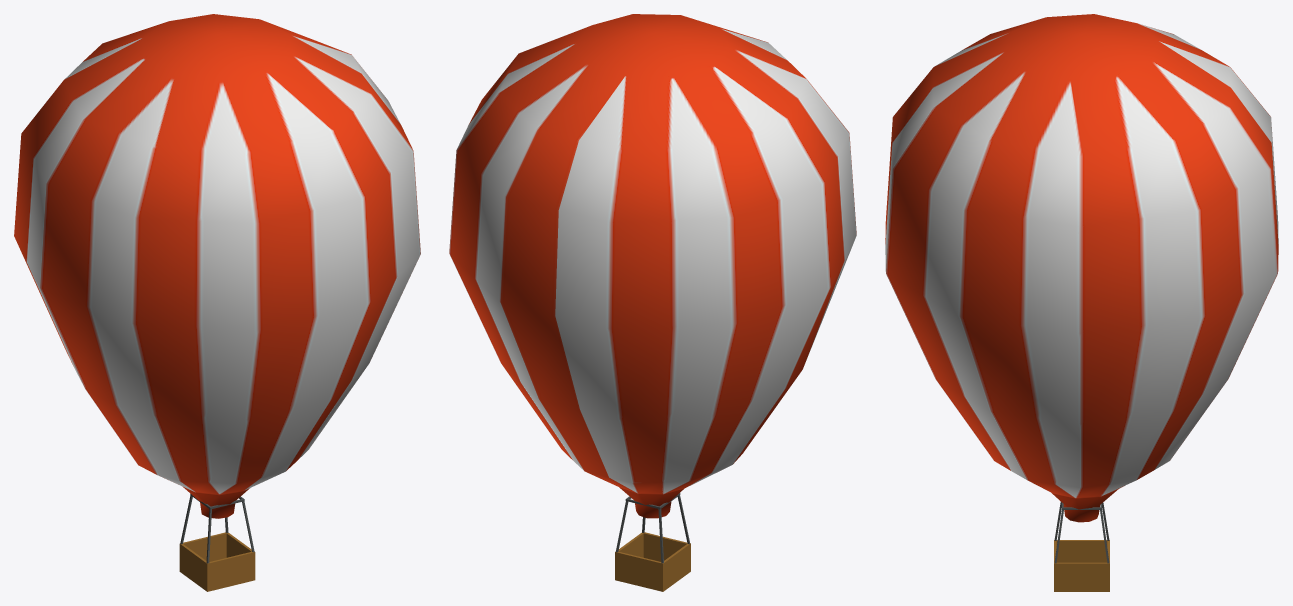
Rendered from HotAirBalloon.fbx.
3 views of the same model, side by side, from view 1: azimuth 30°, elevation 25°; view 2: azimuth 150°, elevation 25°; view 3: azimuth 270°, elevation 25° (orthographic).
Parts seen in each view (by area): view 1: HotAirBalloon; view 2: HotAirBalloon; view 3: HotAirBalloon.
Boxes of the visible parts, x1=… form: HotAirBalloon: x1=14, y1=14, x2=420, y2=591; HotAirBalloon: x1=449, y1=14, x2=856, y2=591; HotAirBalloon: x1=885, y1=14, x2=1278, y2=591.
Size of the model in its own units: 882 by 1288 by 841.
